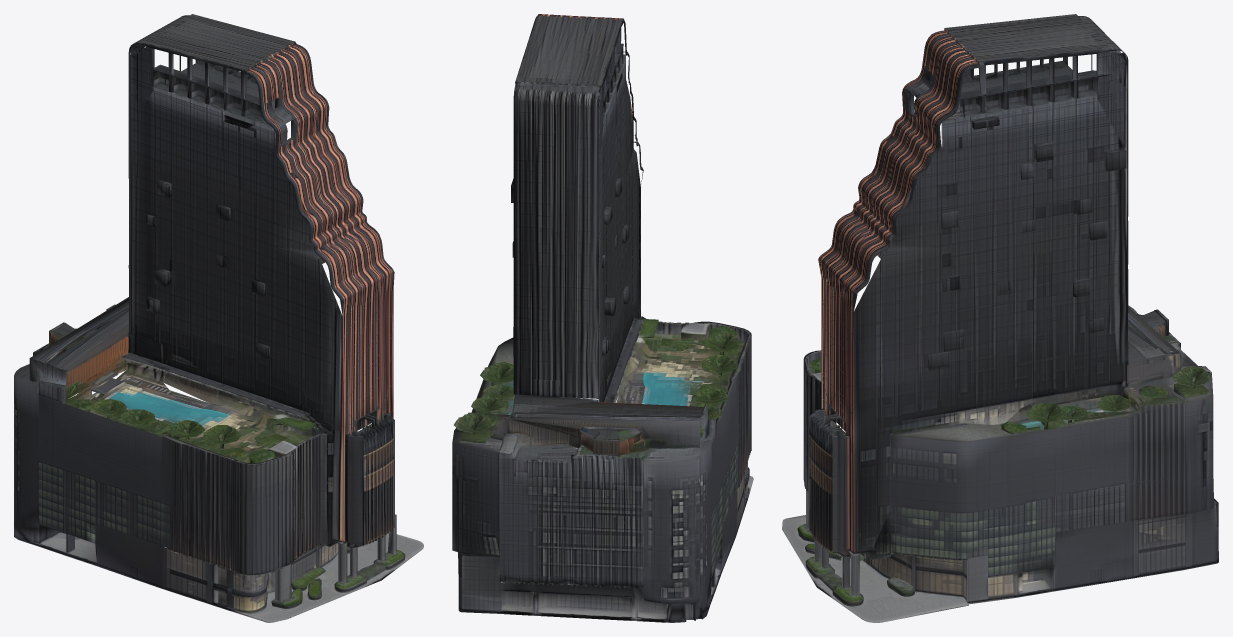
Rendered from town-copper-tower.glb.
The picture shows the model from 3 angles, left to right: view 1: azimuth 30°, elevation 25°; view 2: azimuth 150°, elevation 25°; view 3: azimuth 270°, elevation 25°; orthographic projection. The views are drawn at different scales.
Visible parts, largest first — view 1: tripo_6f64a728_e80c_47e0_af4f_a8592add6135; view 2: tripo_6f64a728_e80c_47e0_af4f_a8592add6135; view 3: tripo_6f64a728_e80c_47e0_af4f_a8592add6135.
Part boxes in pixels (x1,y1,x2,y2): tripo_6f64a728_e80c_47e0_af4f_a8592add6135: (14, 14, 423, 622); tripo_6f64a728_e80c_47e0_af4f_a8592add6135: (452, 14, 753, 622); tripo_6f64a728_e80c_47e0_af4f_a8592add6135: (782, 14, 1218, 622).
Bounding box in the file's own units: 0.644 × 0.9995 × 0.7612.
Materials: 1 (1 with a texture image).
